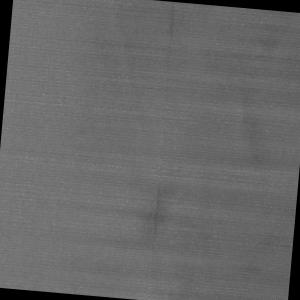Stain: (142, 178, 172, 255)
